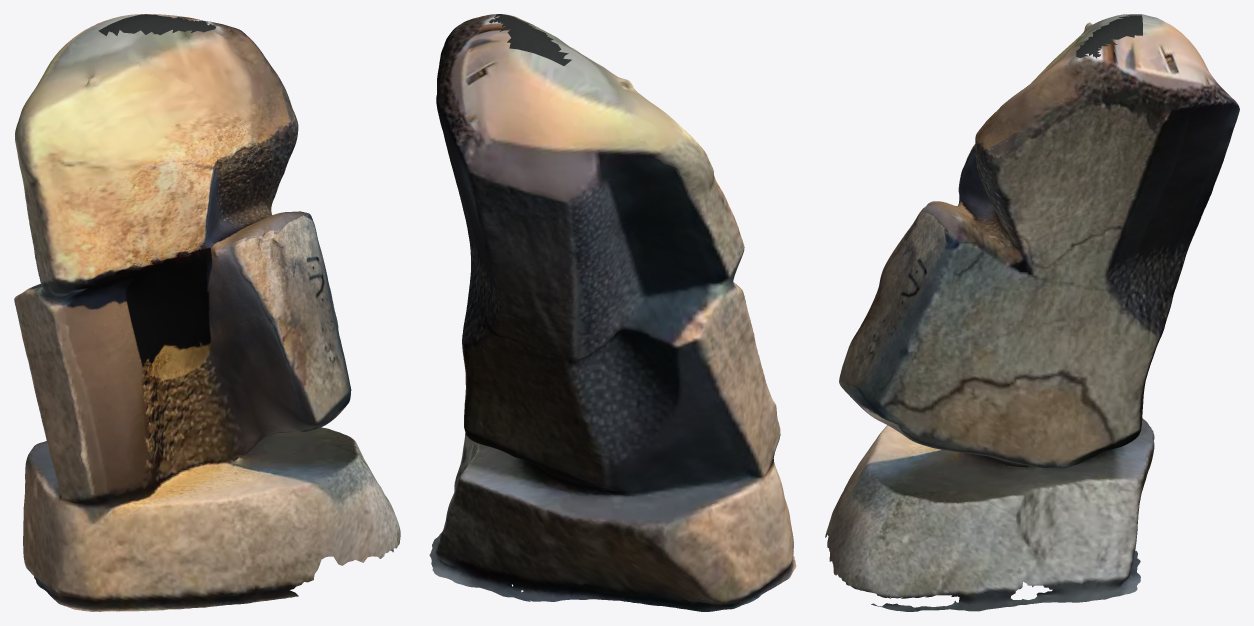
File: preview.glb
The picture shows the model from 3 angles, left to right: view 1: azimuth 30°, elevation 25°; view 2: azimuth 150°, elevation 25°; view 3: azimuth 270°, elevation 25°; orthographic projection. The views are drawn at different scales.
Parts seen in each view (by area): view 1: Object_2; view 2: Object_2; view 3: Object_2.
Part boxes in pixels (x1,y1,x2,y2): Object_2: (14, 14, 400, 611); Object_2: (429, 14, 796, 611); Object_2: (825, 14, 1239, 611).
Bounding box in the file's own units: 1.22 × 1.9 × 1.35.
1 material, 1 textured.
